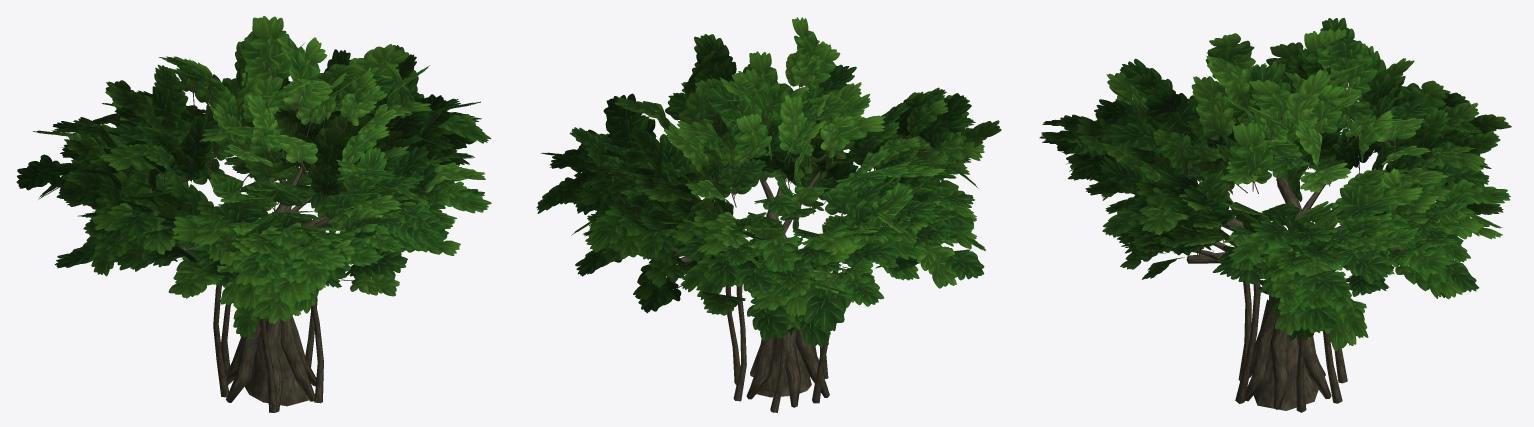
The model's file is veg-tree-banyan-lod1-d3786f6a6fb6.glb.
3 views of the same model, side by side, from view 1: azimuth 30°, elevation 25°; view 2: azimuth 150°, elevation 25°; view 3: azimuth 270°, elevation 25° (orthographic). The views are drawn at different scales.
Visible parts, largest first — view 1: veg-tree-banyan_lod1; view 2: veg-tree-banyan_lod1; view 3: veg-tree-banyan_lod1.
Boxes of the visible parts, box(x1,y1,x2,y2) form: veg-tree-banyan_lod1: box(16, 16, 491, 412); veg-tree-banyan_lod1: box(536, 17, 1001, 412); veg-tree-banyan_lod1: box(1039, 18, 1511, 412).
Size of the model in its own units: 10.8 by 8.5 by 9.99.
Materials: 2 (2 with a texture image).
